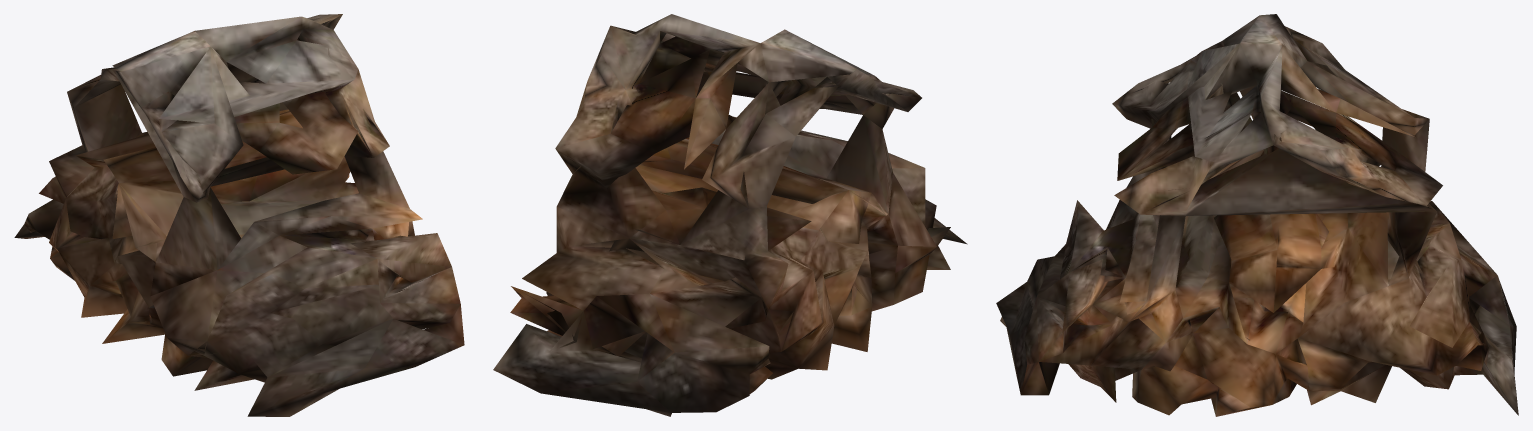
The model's file is e_woodpile.glb.
3 views of the same model, side by side, from view 1: azimuth 30°, elevation 25°; view 2: azimuth 150°, elevation 25°; view 3: azimuth 270°, elevation 25° (orthographic). The views are drawn at different scales.
Parts seen in each view (by area): view 1: tripo_node_7cb9e557-9b66-4daa-81ae-be3115951e41; view 2: tripo_node_7cb9e557-9b66-4daa-81ae-be3115951e41; view 3: tripo_node_7cb9e557-9b66-4daa-81ae-be3115951e41.
Boxes of the visible parts, x1,y1,x2,y2 form: tripo_node_7cb9e557-9b66-4daa-81ae-be3115951e41: (14,14,464,416); tripo_node_7cb9e557-9b66-4daa-81ae-be3115951e41: (493,14,967,416); tripo_node_7cb9e557-9b66-4daa-81ae-be3115951e41: (996,14,1518,416).
Bounding box in the file's own units: 0.6025 × 0.65 × 1.
1 material, 1 textured.
